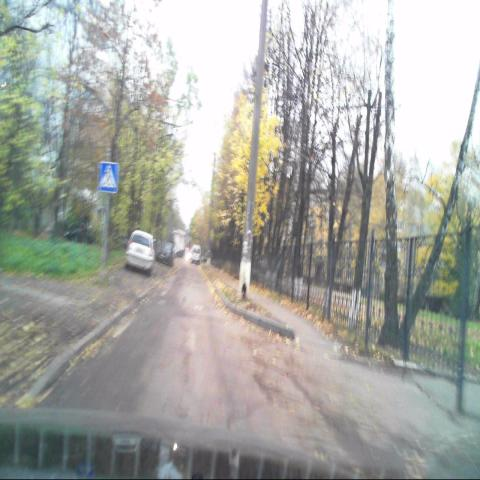5_19_1: (100, 163, 118, 193)
